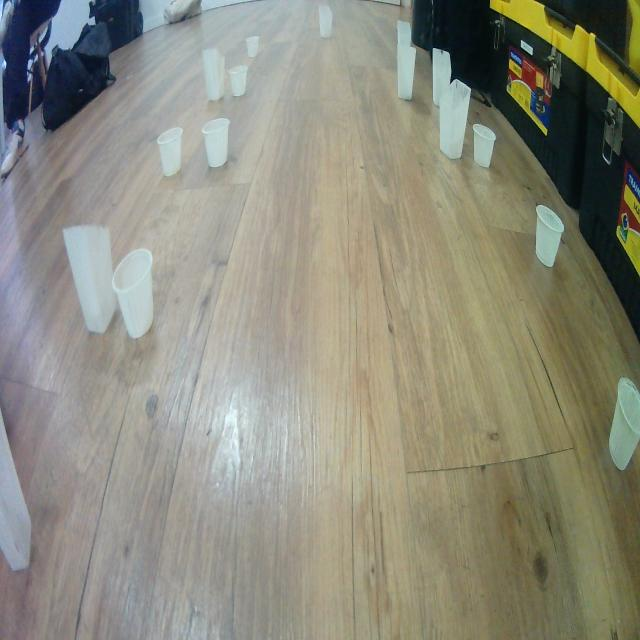erva_daninha: (62, 224, 116, 336), (0, 407, 32, 572), (439, 78, 472, 160), (202, 48, 226, 103), (432, 46, 452, 107), (397, 44, 416, 102), (397, 20, 412, 58), (319, 4, 333, 39)
planta: (112, 248, 154, 340), (608, 376, 640, 471), (535, 204, 565, 268), (202, 118, 230, 168), (157, 126, 184, 177), (473, 123, 496, 169), (228, 65, 248, 97), (247, 34, 260, 59)
